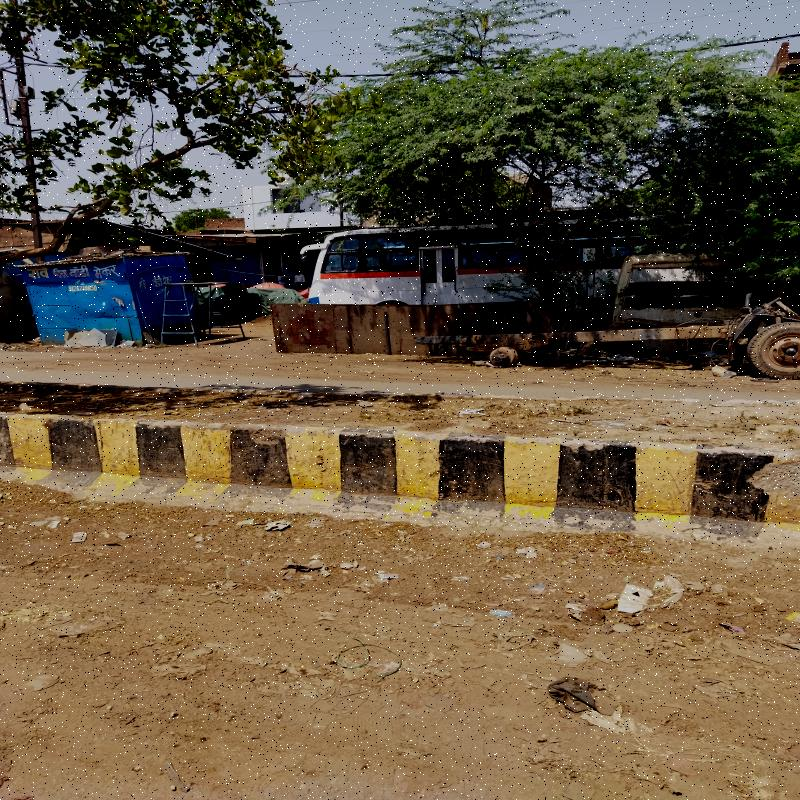bus: (309, 232, 669, 315)
